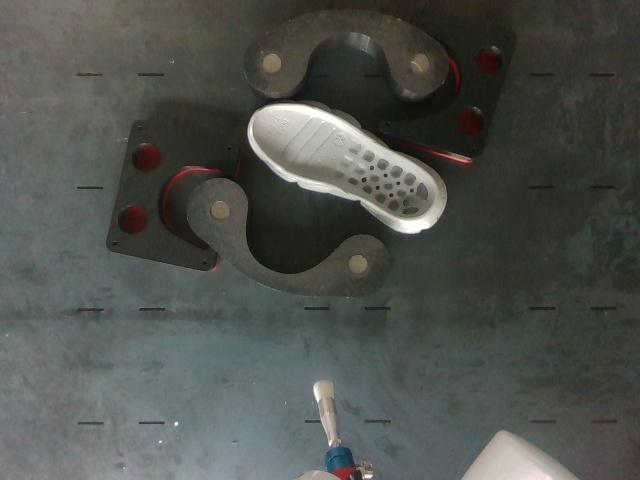shoes: (251, 104, 438, 219)
